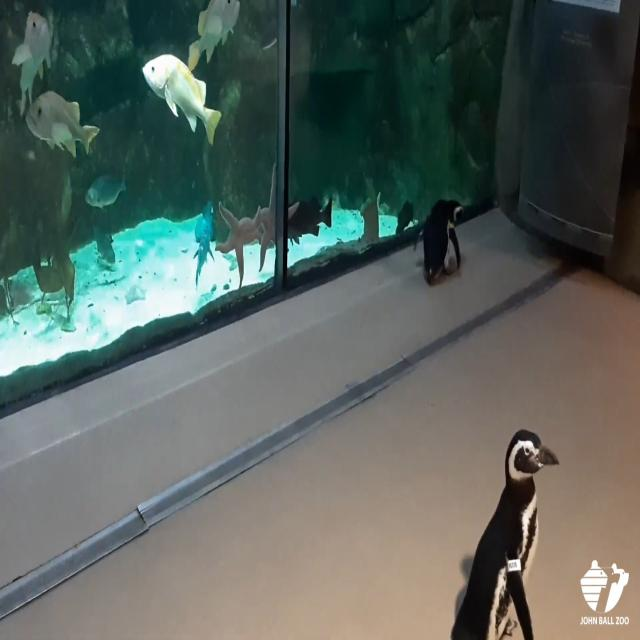penguin: (444, 426, 564, 640), (413, 197, 471, 286)
